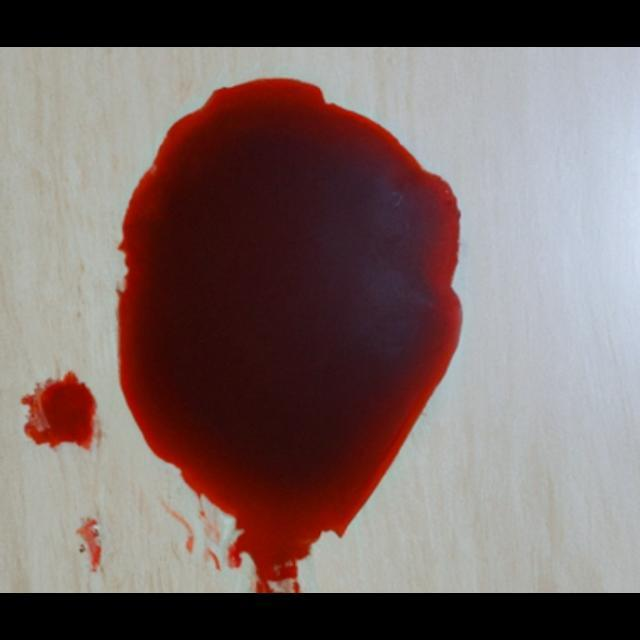blood: (115, 77, 462, 593), (20, 371, 98, 451), (74, 519, 102, 574)
